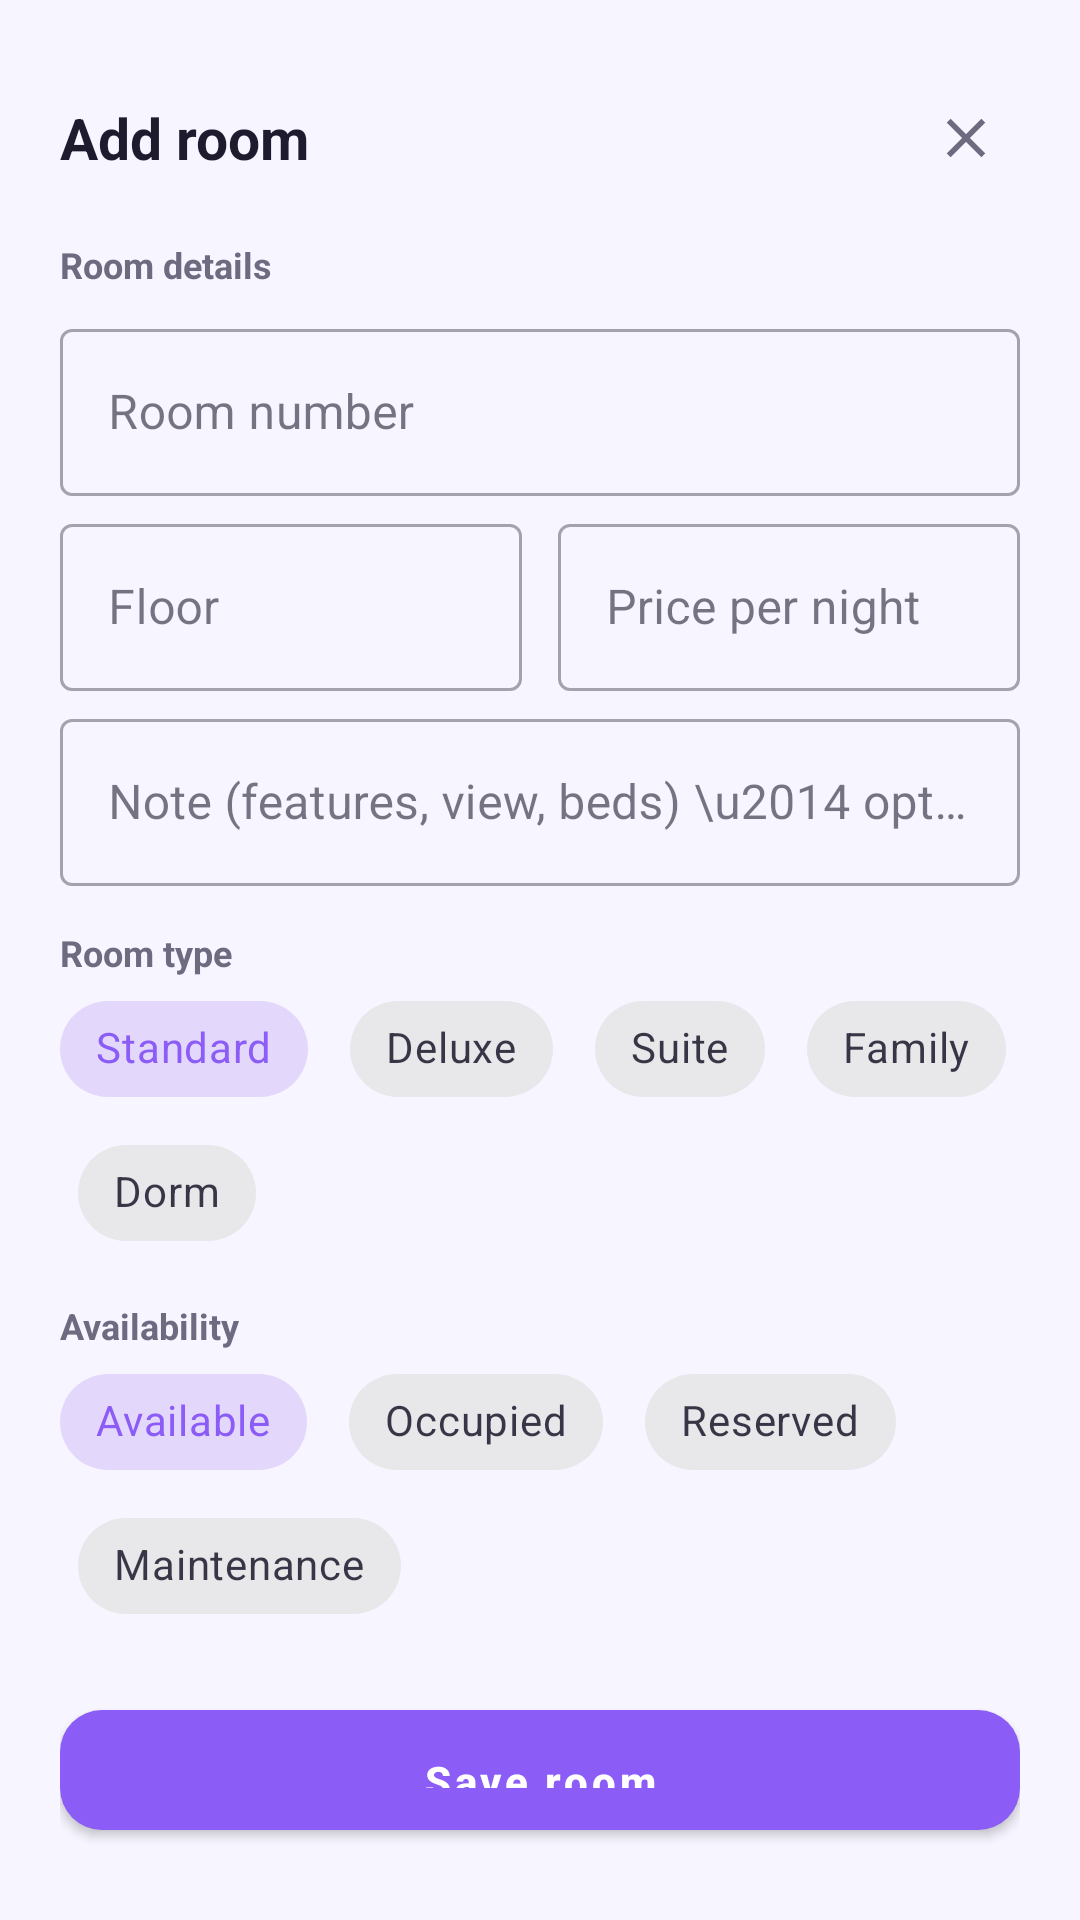

Icons on this 1080px×1920px Android screen, each with its box as (x1, y1, x2, y2):
Close: (947, 119, 985, 157)
